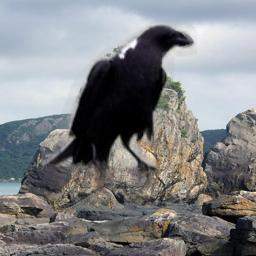Crow: (40, 20, 197, 199)
